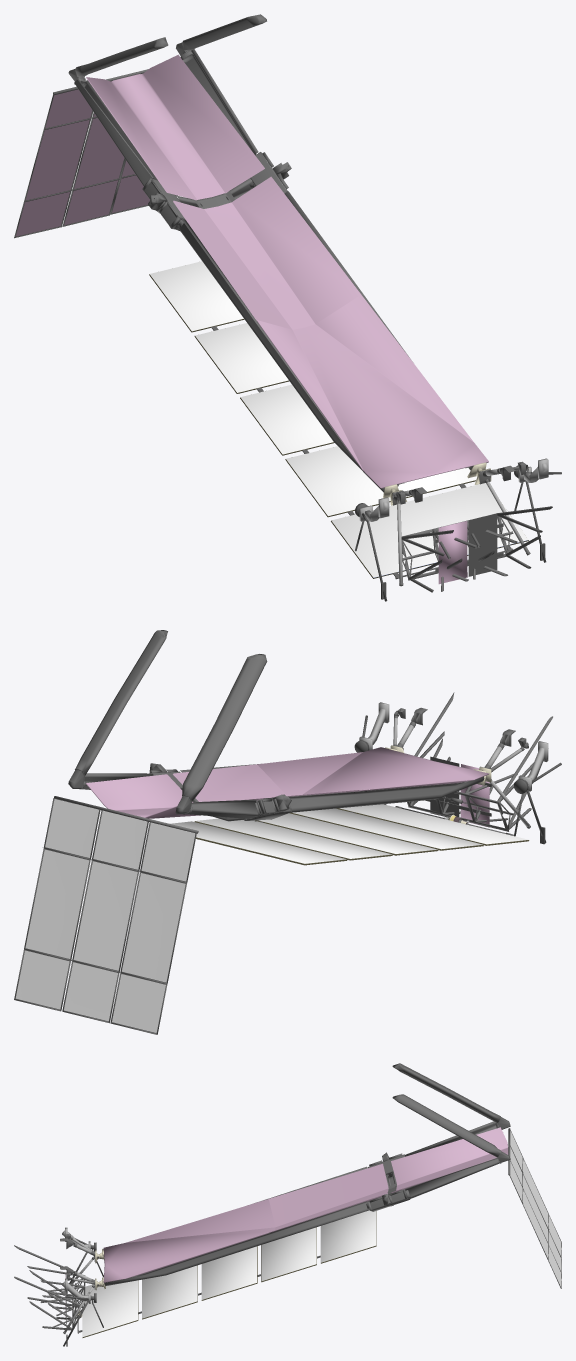
Rendered from solar_panels.gltf.
3 views of the same model, one above another, from view 1: azimuth 30°, elevation 25°; view 2: azimuth 150°, elevation 25°; view 3: azimuth 270°, elevation 25° (orthographic). The views are drawn at different scales.
Parts seen in each view (by area): view 1: Solar Panels; view 2: Solar Panels; view 3: Solar Panels.
Part boxes in pixels (x1,y1,x2,y2): Solar Panels: (14,14,561,601); Solar Panels: (14,630,561,1034); Solar Panels: (14,1063,561,1346).
Size of the model in its own units: 2.68 by 4.81 by 9.89.
